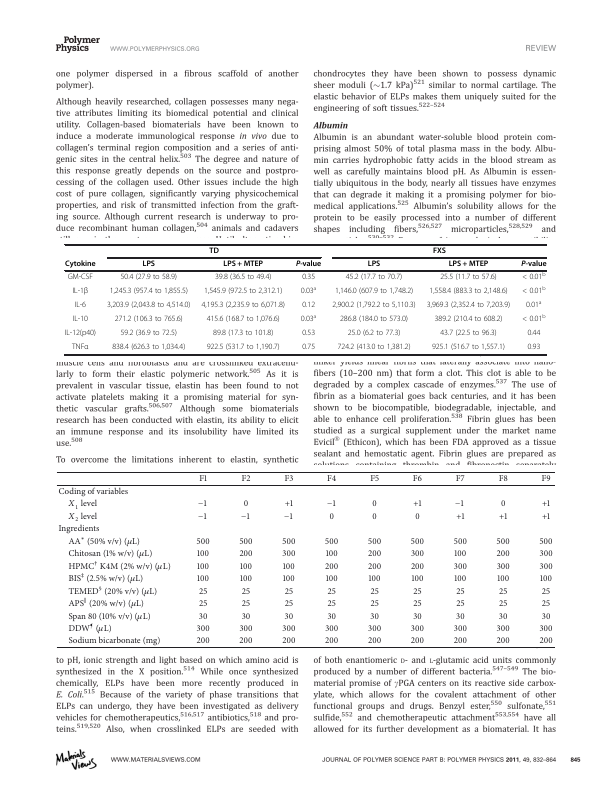borderless: (55, 470, 555, 647), (63, 243, 546, 354)
cell: (67, 557, 172, 574), (67, 583, 158, 599), (67, 546, 153, 561), (67, 608, 152, 623), (67, 595, 145, 611), (67, 570, 144, 586), (67, 533, 141, 549), (67, 636, 161, 647), (200, 301, 286, 311), (331, 301, 417, 311), (106, 301, 191, 311), (426, 301, 511, 311), (109, 287, 189, 297), (203, 287, 283, 297), (334, 287, 414, 297), (428, 287, 508, 297), (206, 315, 281, 325), (111, 343, 186, 353), (206, 343, 281, 353), (336, 343, 411, 353), (431, 343, 506, 353), (67, 620, 113, 636), (57, 487, 129, 497), (114, 315, 184, 325), (339, 315, 409, 325), (433, 315, 503, 325), (212, 329, 274, 339), (119, 273, 178, 283), (439, 273, 498, 283), (119, 329, 178, 339), (439, 329, 498, 339), (214, 273, 272, 283), (345, 273, 403, 283), (347, 329, 401, 339), (67, 508, 98, 525), (67, 496, 98, 512), (57, 524, 100, 535), (222, 260, 264, 270), (448, 260, 489, 270), (64, 329, 97, 339), (64, 260, 96, 270), (521, 272, 546, 283), (521, 286, 546, 297), (521, 314, 546, 325), (295, 260, 322, 270), (520, 260, 547, 270), (67, 273, 94, 283), (197, 508, 209, 524), (240, 508, 252, 524), (283, 508, 295, 524), (300, 286, 317, 297), (525, 300, 542, 311), (300, 314, 317, 325), (71, 287, 89, 297), (71, 343, 89, 353), (197, 496, 209, 511), (326, 496, 338, 511), (238, 549, 254, 560), (238, 636, 254, 647), (72, 315, 89, 325), (455, 496, 466, 511), (281, 549, 296, 560), (367, 549, 382, 560), (410, 549, 425, 560), (496, 549, 511, 560), (539, 549, 554, 560), (324, 561, 339, 572), (367, 561, 382, 572), (410, 561, 425, 572), (453, 561, 468, 572), (496, 561, 511, 572), (539, 561, 554, 572), (196, 636, 211, 647), (281, 636, 296, 647), (324, 636, 339, 647), (367, 636, 382, 647), (410, 636, 425, 647), (453, 636, 468, 647), (496, 636, 511, 647), (539, 636, 554, 647), (238, 537, 254, 547), (238, 624, 254, 634), (196, 549, 210, 560), (325, 549, 339, 560), (453, 549, 467, 560), (196, 561, 210, 572), (239, 561, 253, 572), (282, 561, 296, 572), (196, 574, 210, 585), (239, 574, 253, 585), (282, 574, 296, 585), (325, 574, 339, 585), (368, 574, 382, 585), (410, 574, 424, 585), (453, 574, 467, 585), (496, 574, 510, 585), (539, 574, 553, 585), (141, 260, 156, 270), (301, 273, 316, 283), (301, 301, 316, 311), (301, 329, 316, 339), (526, 329, 541, 339), (301, 343, 316, 353), (526, 343, 541, 353), (196, 537, 211, 547), (281, 537, 296, 547), (324, 537, 339, 547), (367, 537, 382, 547), (410, 537, 425, 547), (453, 537, 468, 547), (496, 537, 511, 547), (539, 537, 554, 547), (196, 624, 211, 634), (281, 624, 296, 634), (324, 624, 339, 634), (367, 624, 382, 634), (410, 624, 425, 634), (453, 624, 468, 634), (496, 624, 511, 634), (539, 624, 554, 634), (367, 260, 381, 270), (73, 301, 87, 311), (432, 247, 447, 256), (283, 474, 294, 485), (326, 474, 337, 485), (369, 474, 380, 485), (412, 474, 423, 485), (455, 474, 466, 485), (498, 474, 509, 485), (541, 474, 552, 485), (412, 499, 423, 510), (369, 586, 380, 597), (412, 586, 423, 597), (455, 586, 466, 597), (326, 611, 337, 622), (369, 611, 380, 622), (412, 611, 423, 622), (455, 611, 466, 622), (198, 474, 208, 485), (241, 474, 251, 485), (284, 499, 294, 510), (541, 499, 551, 510), (198, 586, 208, 597), (241, 586, 251, 597), (284, 586, 294, 597), (327, 586, 337, 597), (498, 586, 508, 597), (541, 586, 551, 597), (369, 599, 380, 609), (412, 599, 423, 609), (455, 599, 466, 609), (198, 611, 208, 622), (241, 611, 251, 622), (284, 611, 294, 622), (498, 611, 508, 622), (541, 611, 551, 622), (208, 247, 220, 256), (455, 512, 465, 522), (498, 512, 508, 522), (541, 512, 551, 522), (198, 599, 208, 609), (241, 599, 251, 609), (284, 599, 294, 609), (327, 599, 337, 609), (498, 599, 508, 609), (541, 599, 551, 609), (371, 499, 378, 510), (371, 512, 378, 522), (414, 512, 421, 522), (243, 499, 249, 510), (500, 499, 506, 510), (329, 512, 335, 522)
